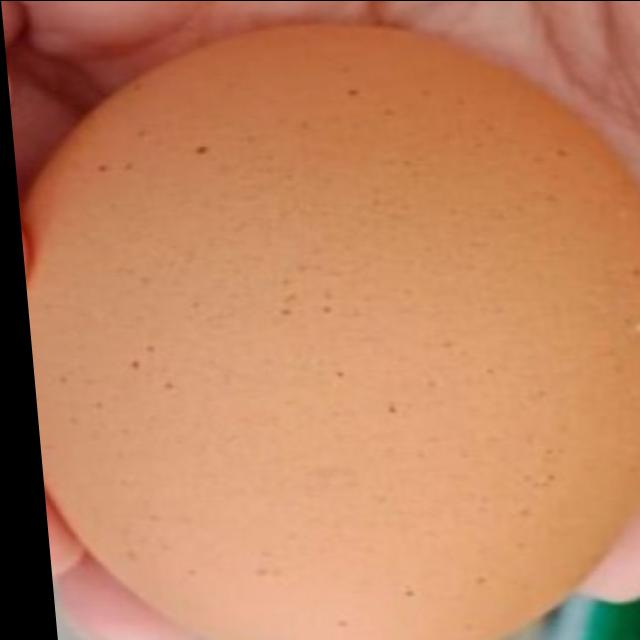unfresh: (1, 15, 640, 640)
